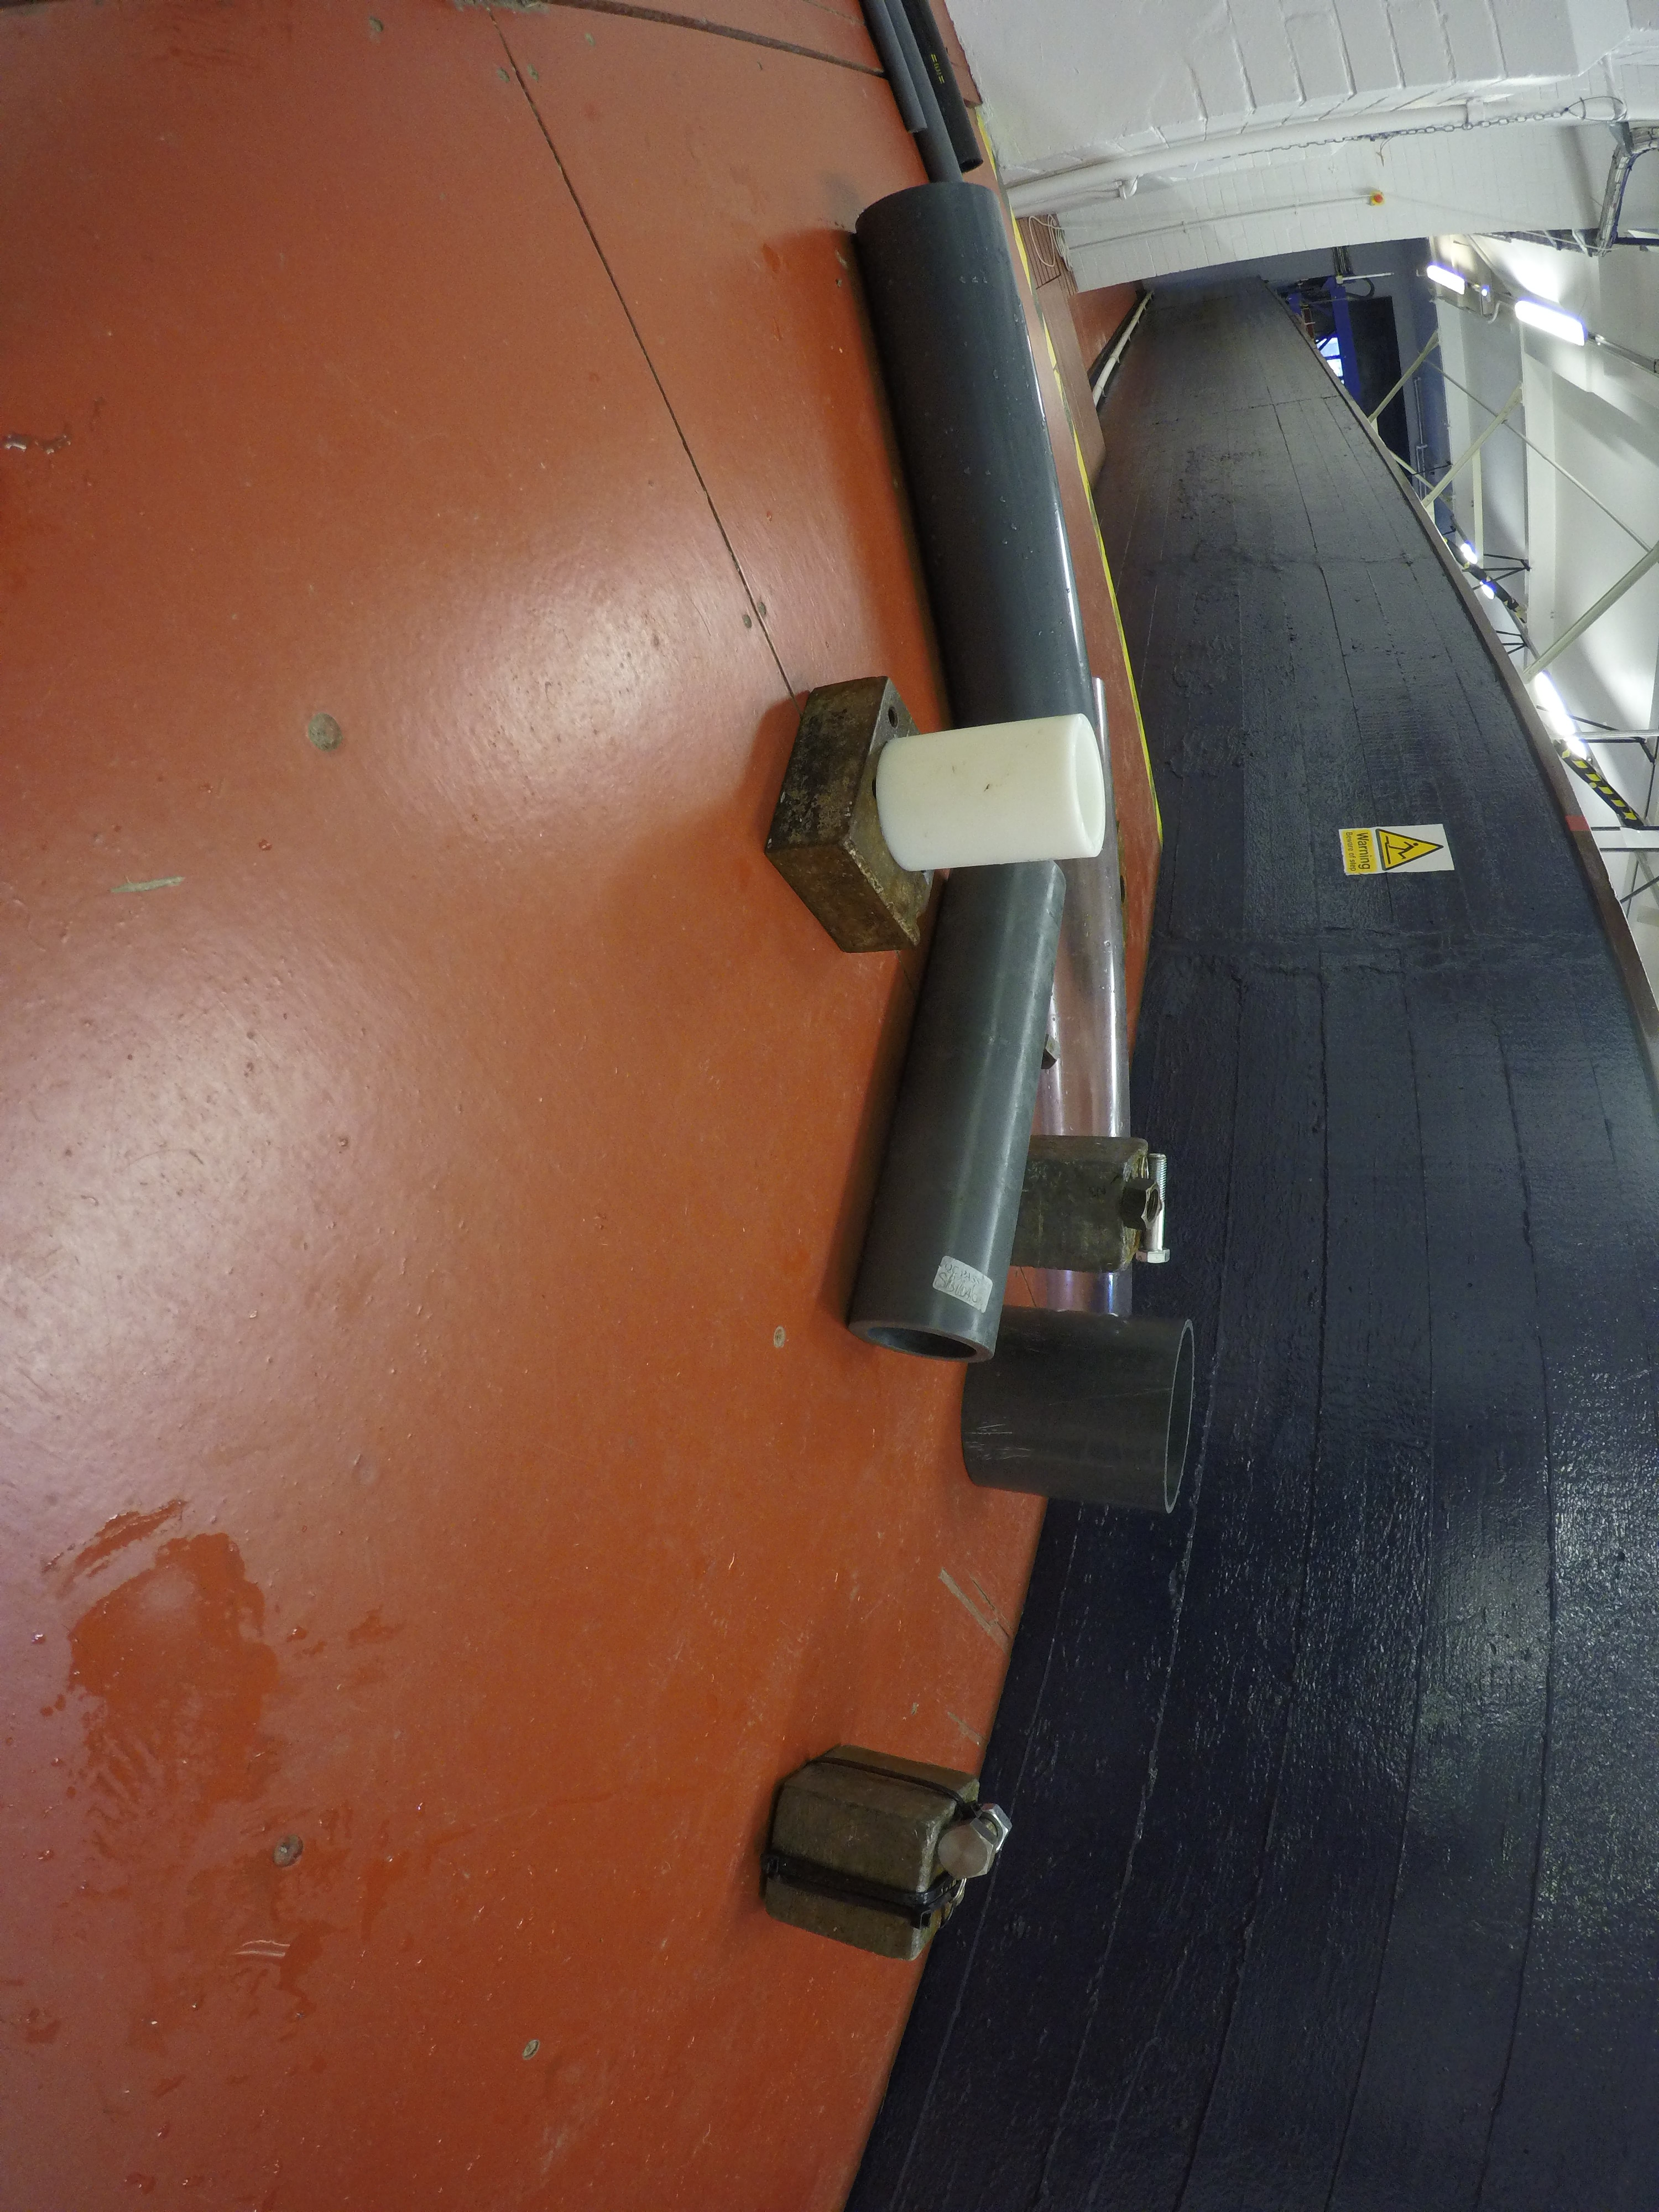bolt: (1136, 1151, 1171, 1264), (979, 1817, 1000, 1846)
flange: (1115, 820, 1131, 982)
lead_block: (758, 1742, 979, 1961), (762, 678, 934, 951), (1012, 1139, 1145, 1278)
nut: (1121, 1177, 1161, 1231), (983, 1803, 1012, 1851), (1040, 1035, 1061, 1071)
pipe: (854, 183, 1100, 725), (849, 860, 1070, 1367), (1035, 674, 1141, 1137), (962, 1308, 1199, 1515), (875, 714, 1105, 871), (884, 0, 965, 186), (906, 0, 988, 171), (863, 0, 932, 139)
